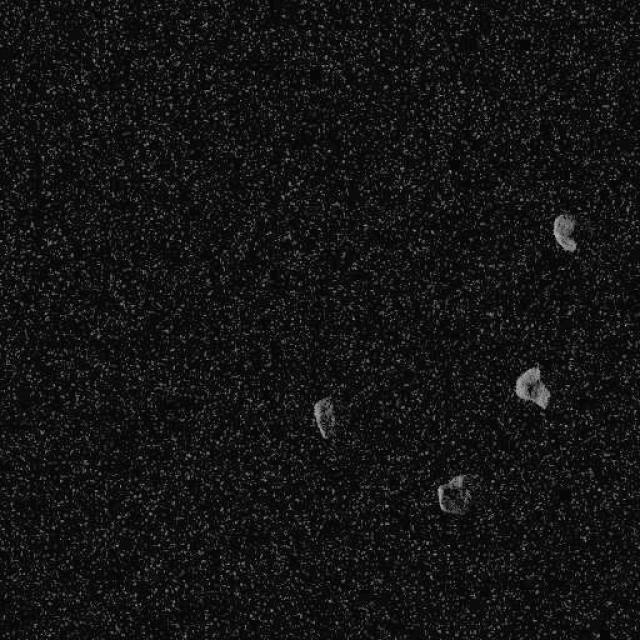D2: (514, 365, 550, 409), (437, 473, 472, 515), (311, 395, 335, 440), (552, 212, 578, 252)
